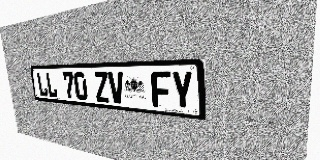0: (73, 72, 88, 101)
7: (62, 72, 76, 99)
F: (150, 71, 172, 109)
L: (45, 72, 58, 98), (36, 72, 48, 97)
V: (108, 72, 125, 104)
Y: (171, 71, 194, 111)
Z: (94, 72, 110, 103)
